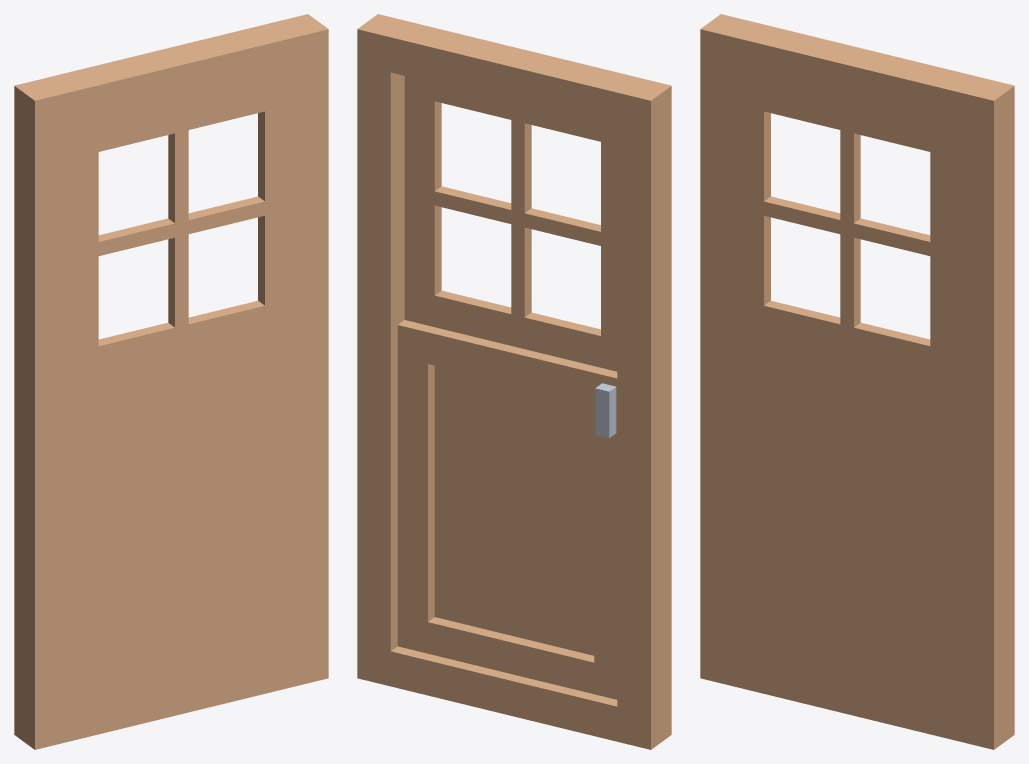
File: door.glb
3 renders of one model, left to right at view 1: azimuth 30°, elevation 25°; view 2: azimuth 150°, elevation 25°; view 3: azimuth 330°, elevation 25°, orthographic.
Visible parts, largest first — view 1: door; view 2: door; view 3: door.
Part boxes in pixels (<box>): door: <box>14,14,328,749</box>; door: <box>357,14,671,749</box>; door: <box>700,14,1014,749</box>.
Bounding box in the file's own units: 0.3286 × 0.6939 × 0.0402.
